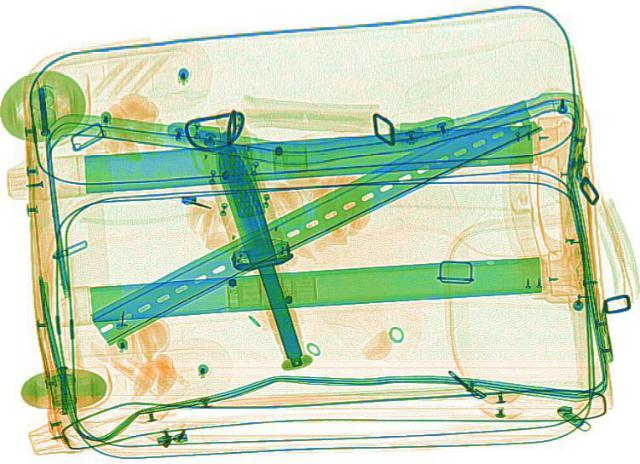Knife: (193, 132, 323, 362)
